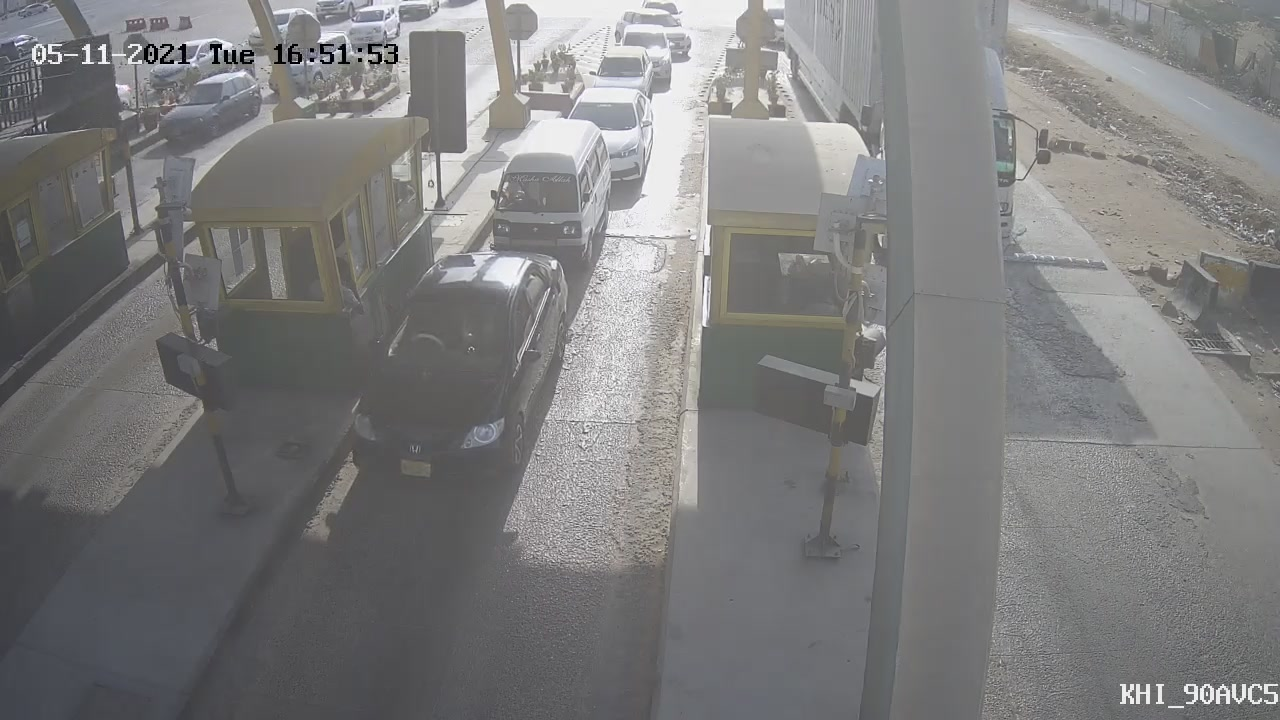F1: (322, 230, 589, 521), (477, 107, 626, 283)
